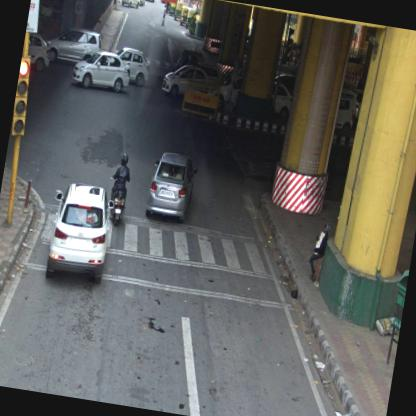car: (42, 180, 118, 284), (144, 148, 199, 224), (70, 46, 132, 95), (42, 25, 102, 68), (160, 62, 210, 102), (110, 46, 153, 86), (20, 34, 51, 74), (120, 0, 142, 9), (134, 0, 147, 6)
motorcycle: (104, 152, 135, 228)
